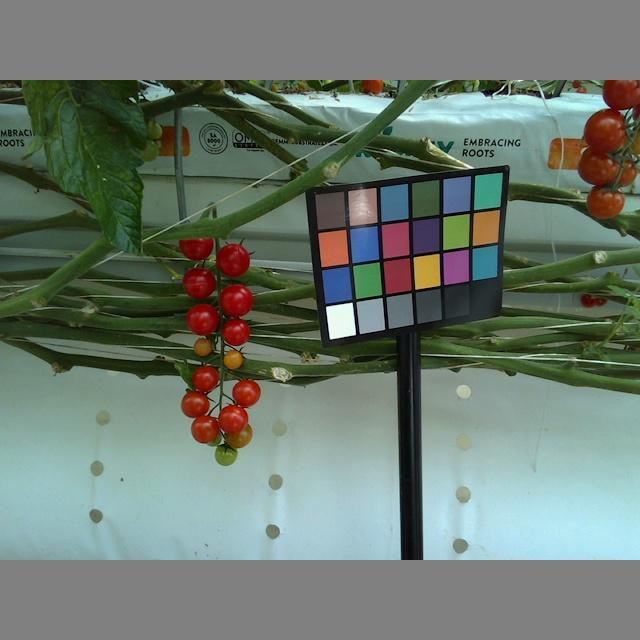green: (215, 443, 240, 466)
pink: (583, 108, 631, 155), (577, 144, 621, 185), (587, 186, 626, 219), (214, 404, 249, 438), (224, 423, 251, 447), (221, 347, 244, 371), (193, 337, 212, 356)
red: (179, 227, 215, 261), (218, 283, 254, 316), (180, 265, 217, 297), (217, 244, 251, 278), (186, 302, 218, 336), (190, 412, 221, 444), (218, 405, 249, 437), (232, 378, 263, 409), (180, 391, 211, 419), (220, 317, 249, 346), (193, 364, 220, 392)
